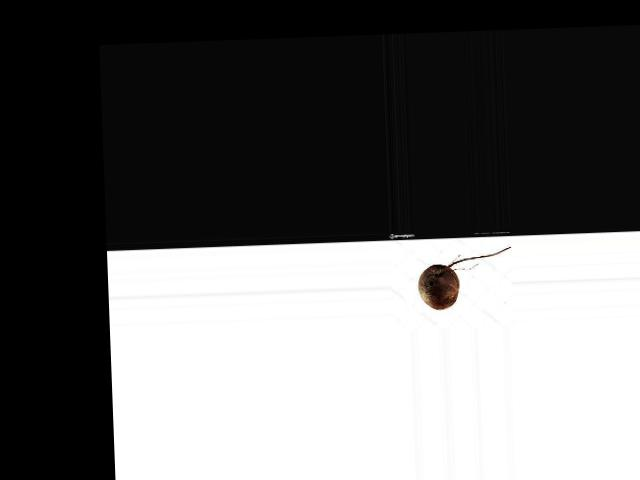beet: (417, 246, 513, 309)
